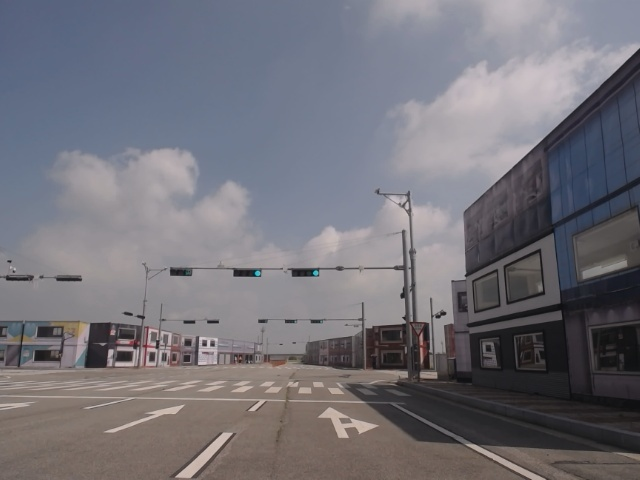straight_green_4: (233, 268, 262, 276), (292, 270, 319, 278)
